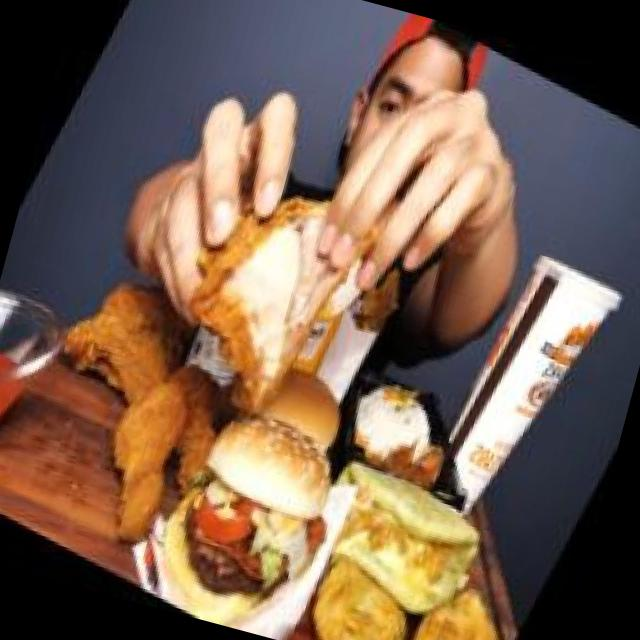AW cola: (407, 210, 636, 530)
black pepper rice bowl: (315, 358, 484, 502)
cheese burger: (226, 326, 382, 481)
fried chicken: (0, 218, 296, 579), (142, 113, 408, 426)
mango chicken pocket: (276, 429, 524, 640)
mozza burger: (123, 381, 368, 640)
perkedel: (281, 536, 439, 640), (382, 552, 534, 640)
